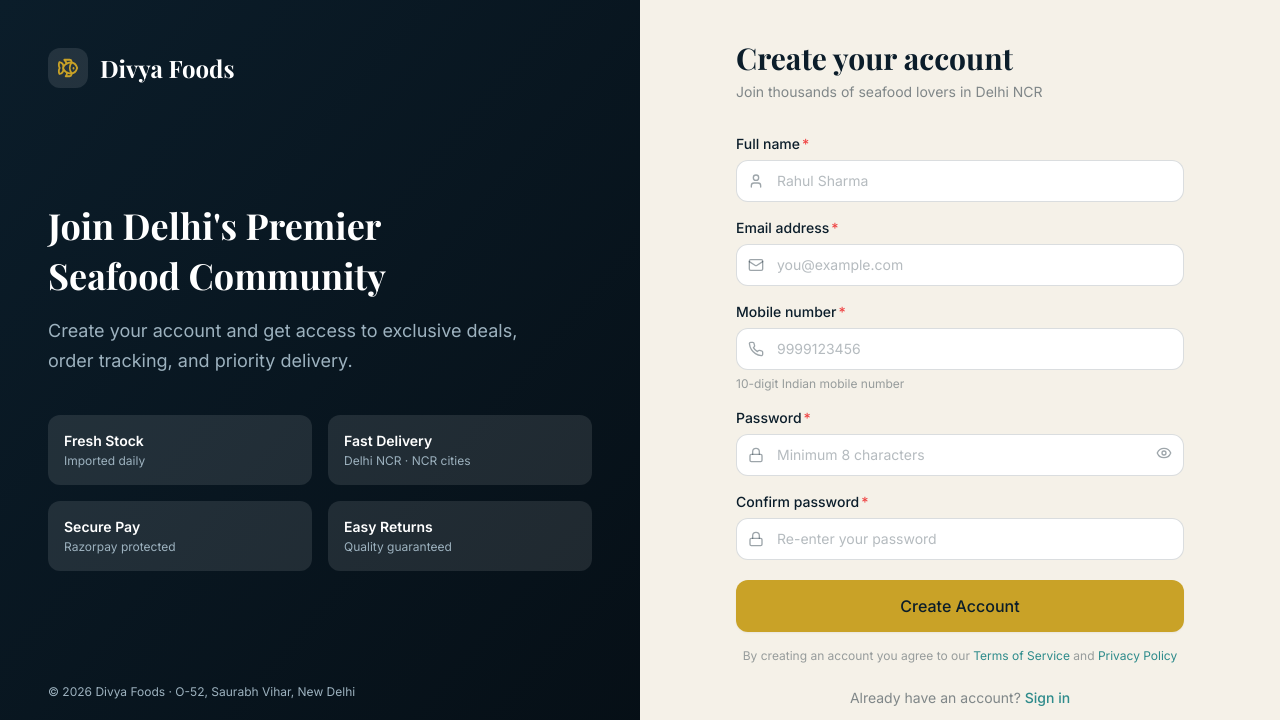
Test: RegisterPage › rejects an Indian mobile number that does not start with 6-9
The width and height of the screenshot is (1280, 720).
In the field labelled "Mobile number*": coordinates (960, 349) [736,328,1184,370], type "1234567890"
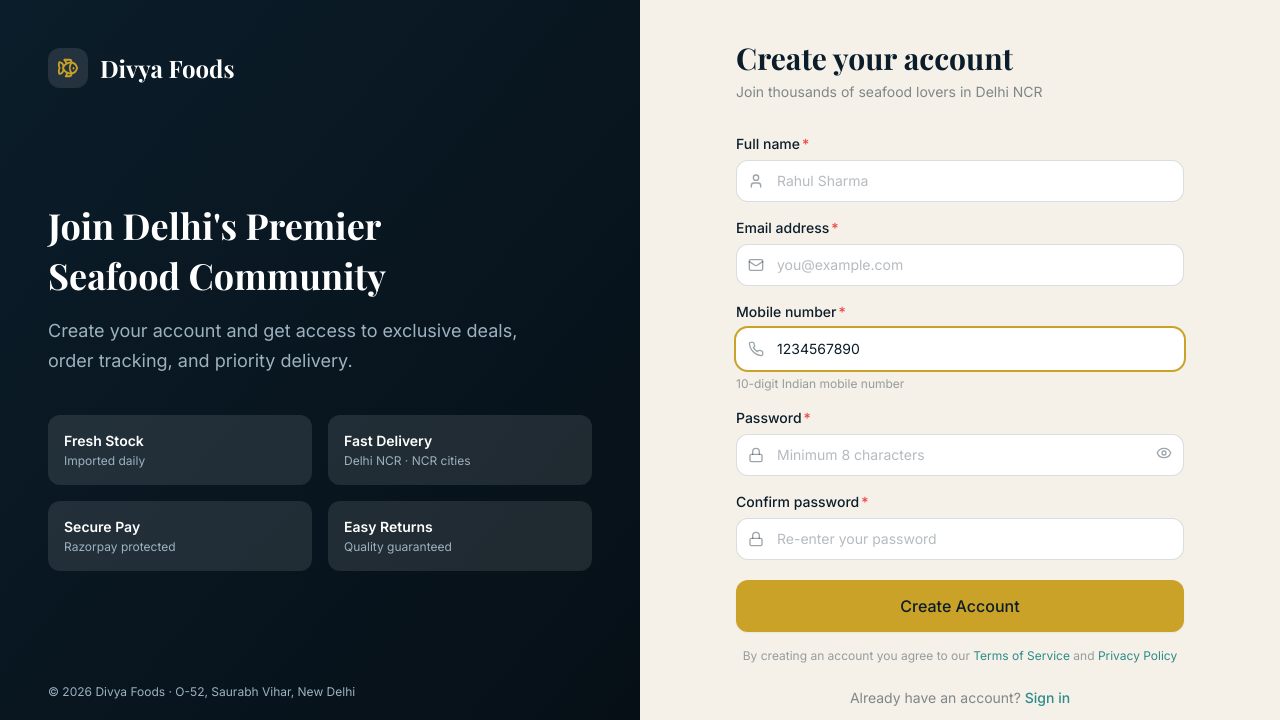
Click the button "Create Account": coordinates (960, 606) [736,580,1184,632]
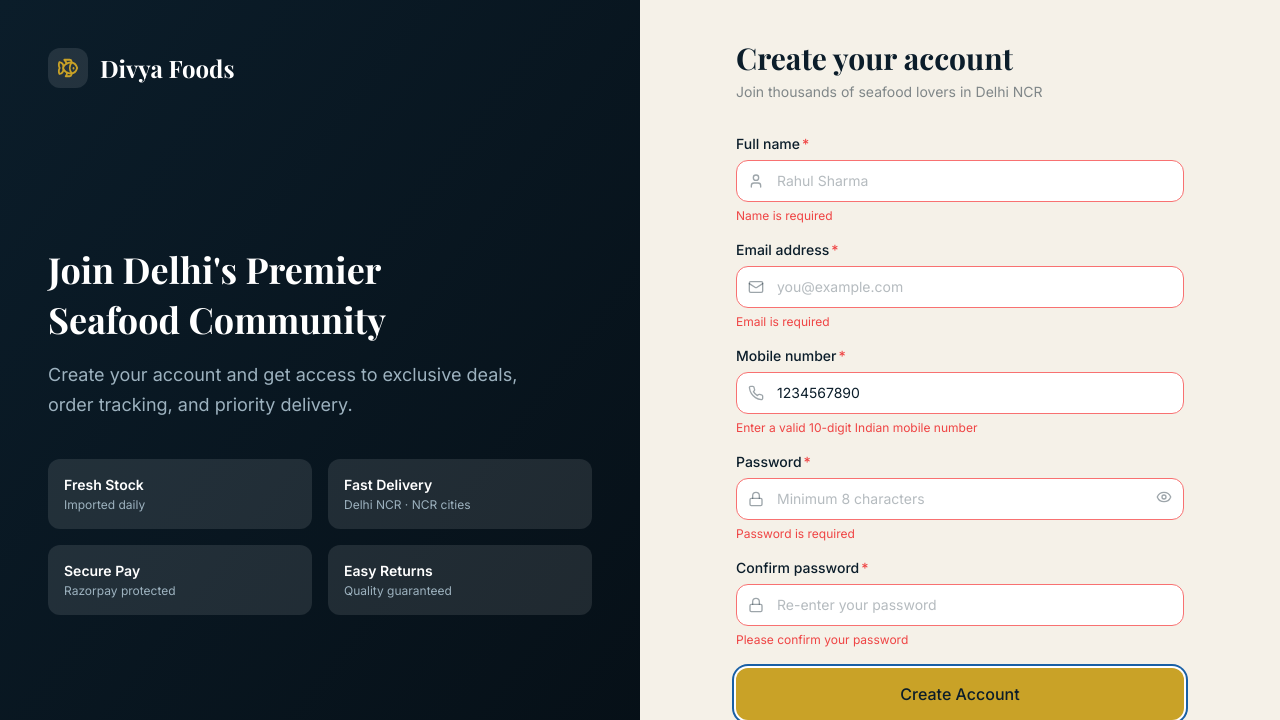
Expected: the text "Enter a valid 10-digit Indian mobile number" is shown, [736,420,977,435]
